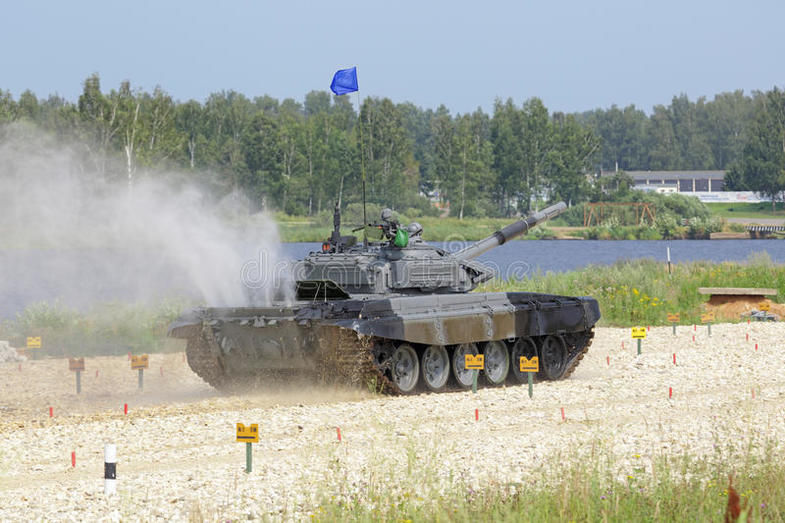t72: (191, 209, 603, 384)
